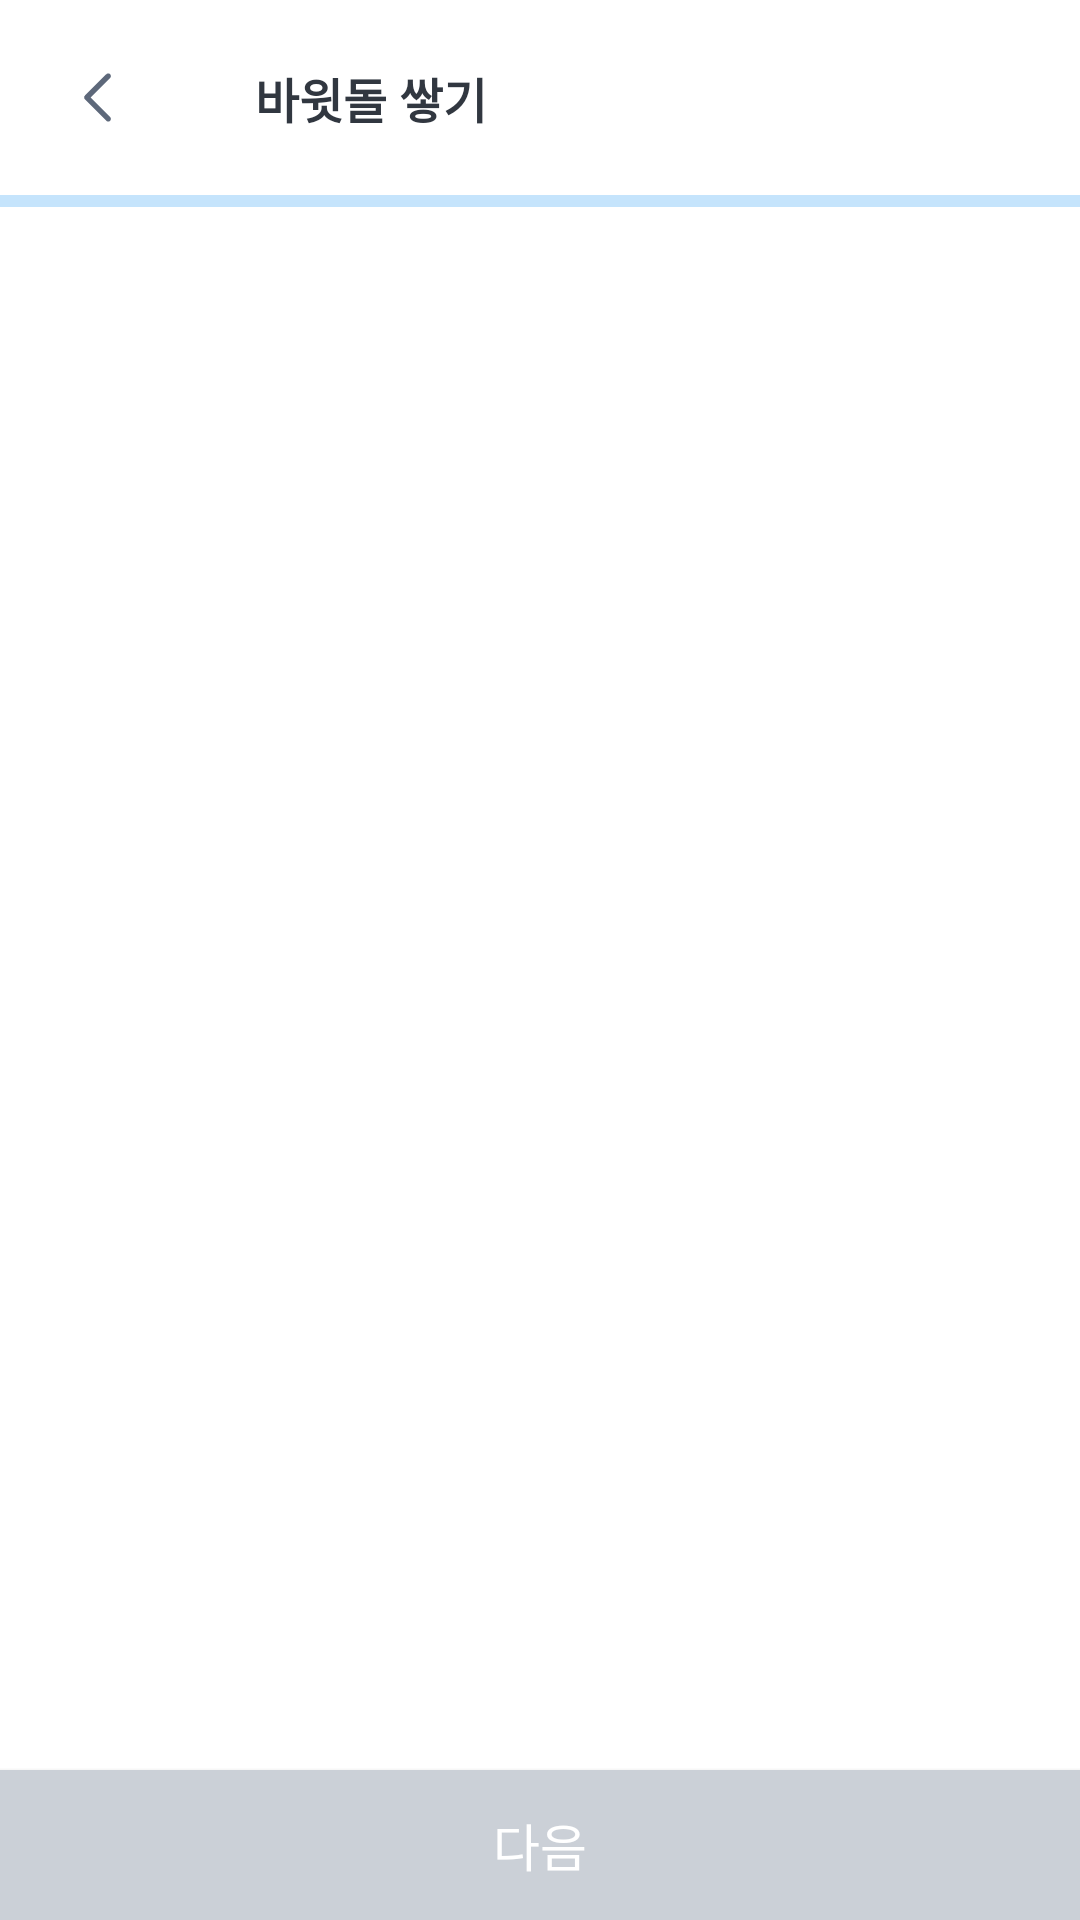

Locate icon controls on the screen. Image size 1080w x 1920h, boxes as (x1, y1, x2, y2).
back arrow: (84, 73, 111, 122)
